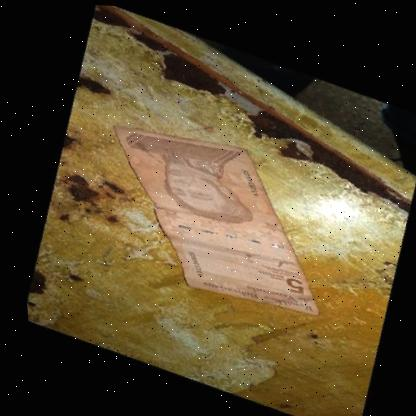five-front-vef: (101, 123, 323, 312)
